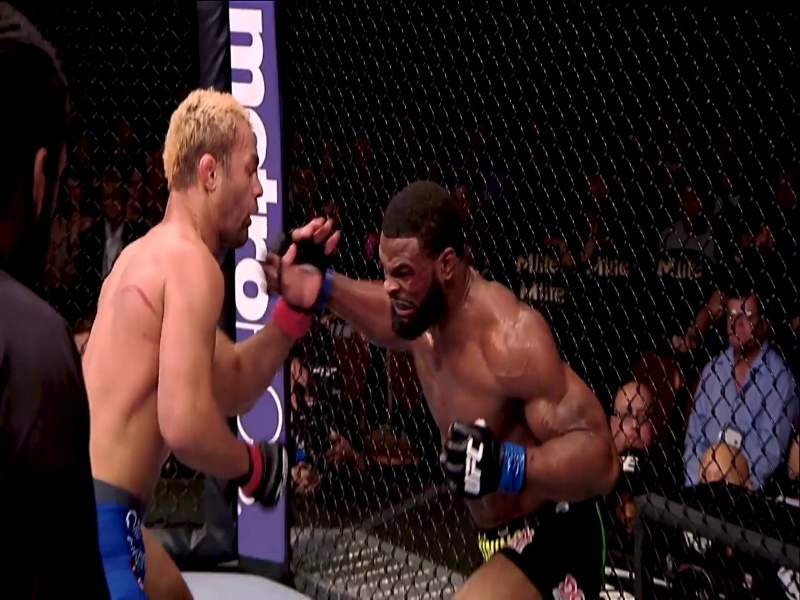fighter: (276, 185, 632, 600), (82, 85, 351, 600)
